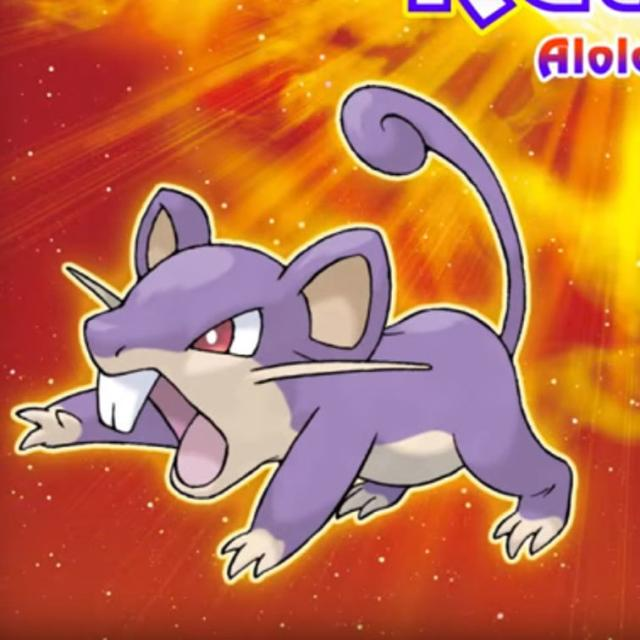Rattata: (47, 180, 550, 570)
